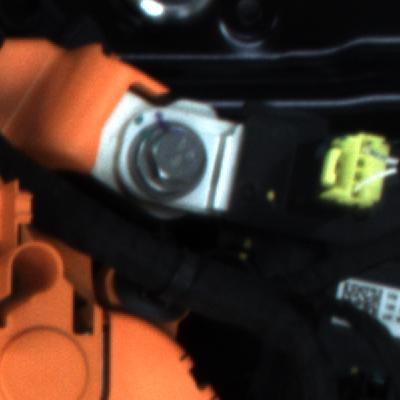nut_b: (120, 117, 214, 203)
